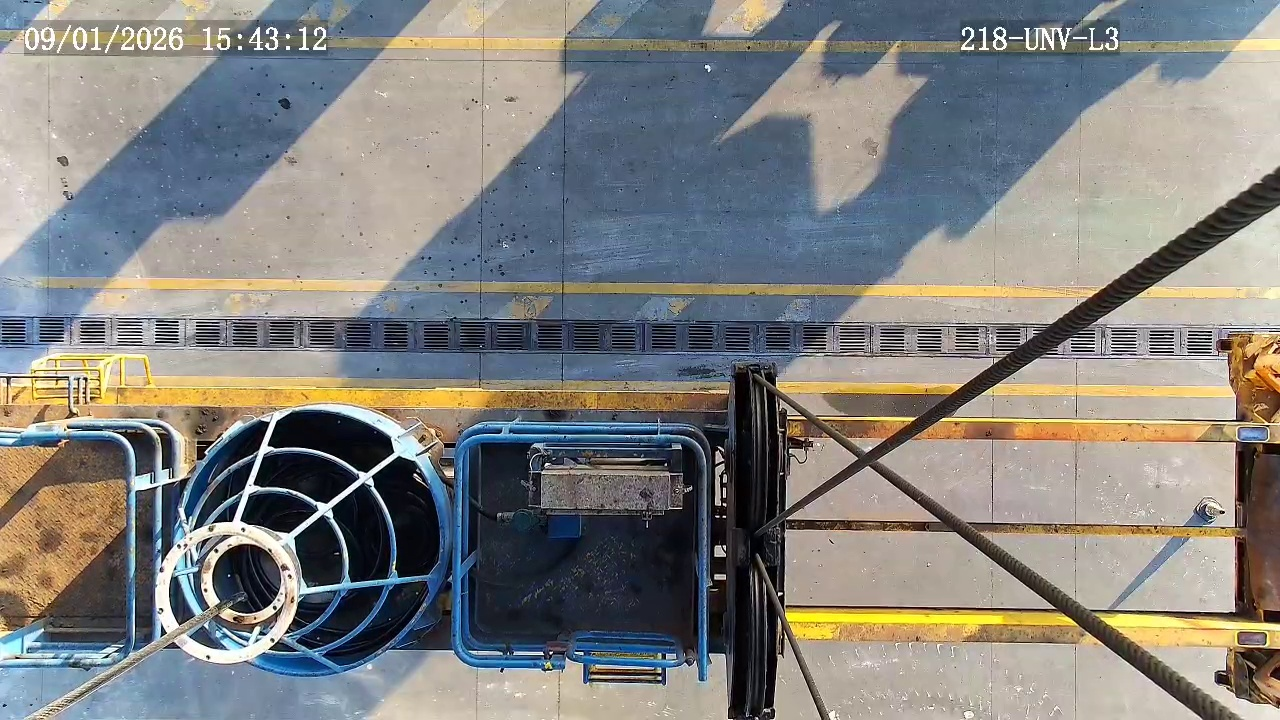right: (172, 406, 445, 675)
